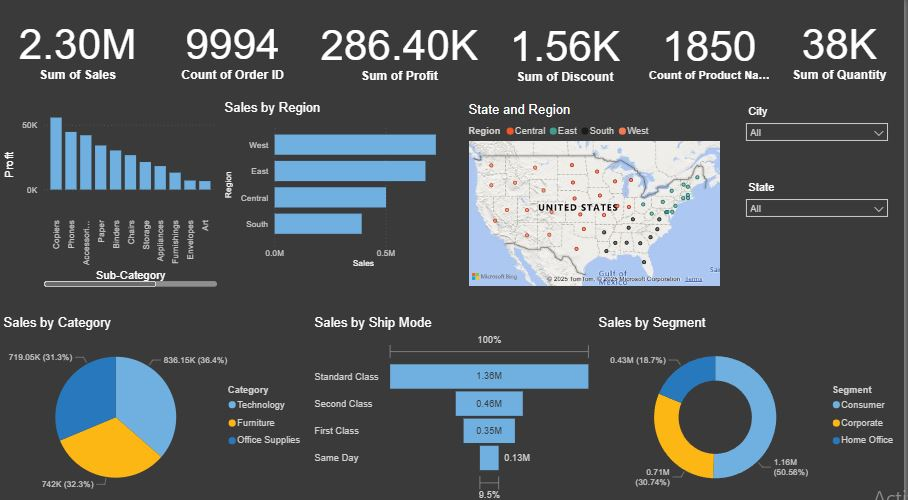

The dashboard page shown, as its layout file describes it:
{"tool":"powerbi","page":{"name":"Page 1","canvas":[1280,720],"ordinal":0},"visuals":[{"type":"card","fields":{"Values":["Sum(Orders.Sales)"]},"box":[0,0,220.1,147.8],"z":0},{"type":"card","fields":{"Values":["CountNonNull(Orders.Order ID)"]},"box":[220.1,0,220.1,147.8],"z":1000},{"type":"card","fields":{"Values":["Sum(Orders.Profit)"]},"box":[440.3,0,250.4,150.6],"z":2000},{"type":"card","fields":{"Values":["Sum(Orders.Discount)"]},"box":[690.7,3.3,221,147.3],"z":3000},{"type":"card","fields":{"Values":["Count(Orders.Product Name)"]},"box":[911.7,0,188.2,149],"z":4000},{"type":"card","fields":{"Values":["Sum(Orders.Quantity)"]},"box":[1100.3,0,179.7,147.8],"z":5000},{"type":"pieChart","fields":{"Y":["Sum(Orders.Sales)"],"Category":["Orders.Category"]},"box":[0,451.9,440.1,268.8],"z":6000},{"type":"donutChart","fields":{"Y":["Sum(Orders.Sales)"],"Category":["Orders.Segment"]},"box":[843.3,451.9,436.7,268.8],"z":7000},{"type":"funnel","fields":{"Y":["Sum(Orders.Sales)"],"Category":["Orders.Ship Mode"]},"box":[440.1,451.9,403.1,268.8],"z":8000},{"type":"clusteredColumnChart","fields":{"Y":["Sum(Orders.Profit)"],"Category":["Orders.Sub-Category"]},"box":[0,150.6,312.6,266.8],"z":9000},{"type":"slicer","fields":{"Values":["Orders.City"]},"box":[1047.6,150.6,221,108],"z":10000},{"type":"slicer","fields":{"Values":["Orders.State"]},"box":[1047.6,258.6,221,108],"z":11000},{"type":"map","fields":{"Category":["Orders.State"],"Series":["Orders.Region"]},"box":[659.6,150.6,366.6,266.8],"z":12000},{"type":"barChart","fields":{"Category":["Orders.Region"],"Y":["Sum(Orders.Sales)"]},"box":[312.6,147.3,347,243.9],"z":13000}]}

Visuals, with their boxes in screenshot pixels (x1, y1, x2, y2), scaled from the page's 1280x720 canvas onto the 908x500 screenshot:
card - Sum(Orders.Sales): bbox=[0, 0, 156, 103]
card - CountNonNull(Orders.Order ID): bbox=[156, 0, 312, 103]
card - Sum(Orders.Profit): bbox=[312, 0, 490, 105]
card - Sum(Orders.Discount): bbox=[490, 2, 647, 105]
card - Count(Orders.Product Name): bbox=[647, 0, 780, 103]
card - Sum(Orders.Quantity): bbox=[781, 0, 907, 103]
pieChart - Sum(Orders.Sales) x Orders.Category: bbox=[0, 314, 312, 499]
donutChart - Sum(Orders.Sales) x Orders.Segment: bbox=[598, 314, 907, 499]
funnel - Sum(Orders.Sales) x Orders.Ship Mode: bbox=[312, 314, 598, 499]
clusteredColumnChart - Sum(Orders.Profit) x Orders.Sub-Category: bbox=[0, 105, 222, 290]
slicer - Orders.City: bbox=[743, 105, 900, 180]
slicer - Orders.State: bbox=[743, 180, 900, 255]
map - Orders.State x Orders.Region: bbox=[468, 105, 728, 290]
barChart - Orders.Region x Sum(Orders.Sales): bbox=[222, 102, 468, 272]
